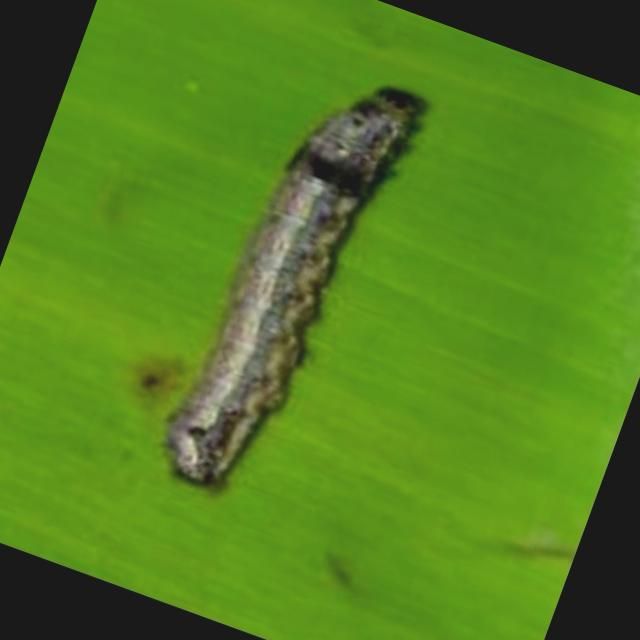Tobacco cutworm: (68, 0, 555, 611)
